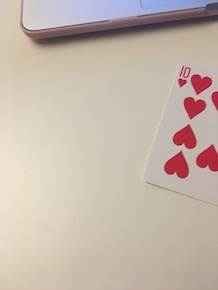TenOfHearts: (139, 58, 218, 205)
